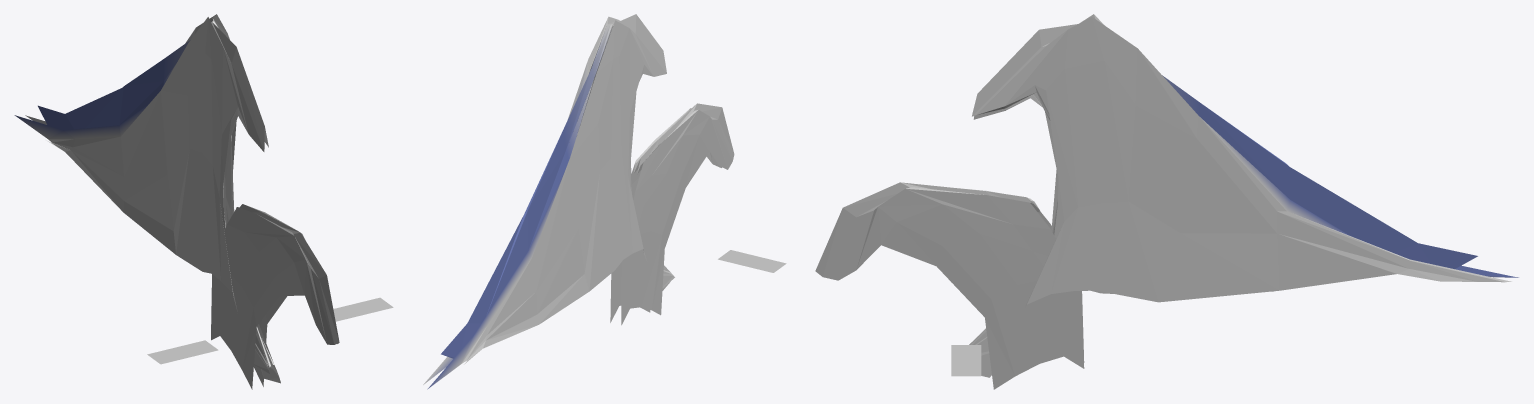
The model's file is pref_fx_Cramorant_spell01A_bullet_e_lv1.fbx.
The picture shows the model from 3 angles, left to right: view 1: azimuth 30°, elevation 25°; view 2: azimuth 150°, elevation 25°; view 3: azimuth 270°, elevation 25°; orthographic projection. The views are drawn at different scales.
Visible parts, largest first — view 1: lang02, lang05, bian_warning; view 2: lang02, lang05, bian_warning; view 3: lang02, lang05, bian_warning.
Boxes of the visible parts, x1,y1,x2,y2 form: lang02: (14,14,280,383); lang05: (211,204,339,389); bian_warning: (147,297,393,364); lang02: (423,14,674,389); lang05: (610,103,734,325); bian_warning: (718,250,786,272); lang02: (969,14,1518,377); lang05: (815,182,1084,389); bian_warning: (951,282,981,376).
Bounding box in the file's own units: 1.72 × 2.4 × 4.12.
